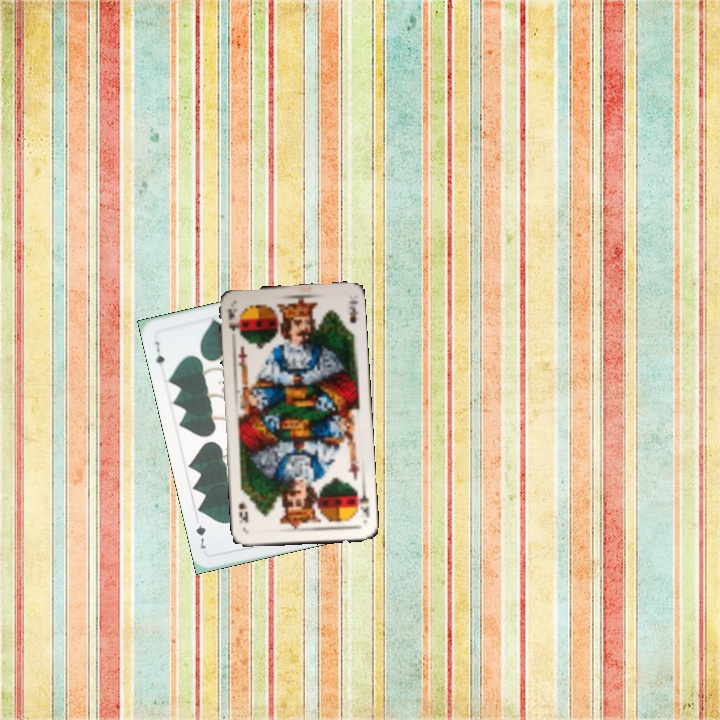G7: (151, 337, 167, 367)
SK: (352, 484, 372, 525), (223, 304, 242, 340)
